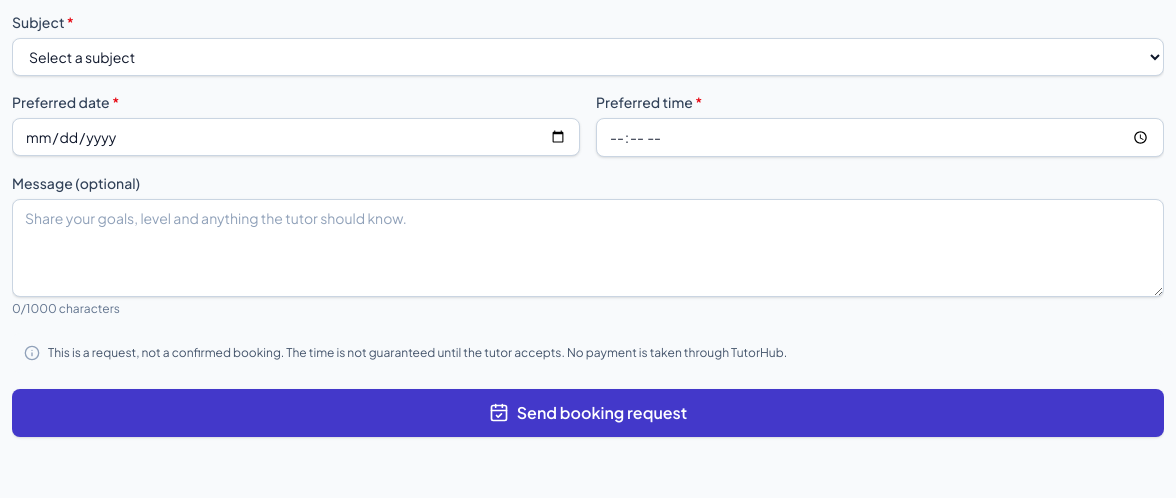
booking request form › validates required fields before sending
Click the button "Send booking request": (588, 413) [12,389,1164,437]
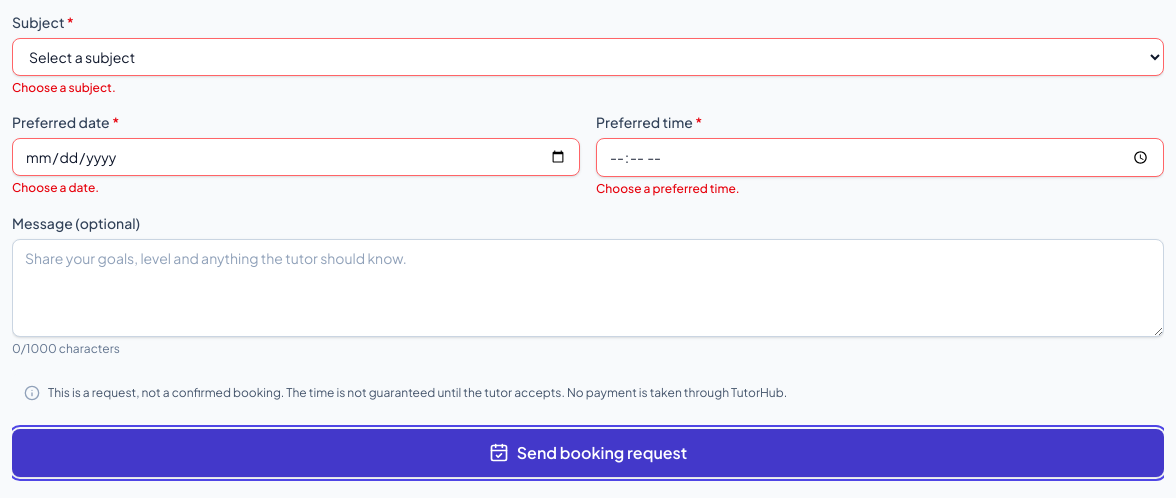
Expected: the text "Choose a subject." is shown, [12,80,116,95]
Expected: the text "Choose a date." is shown, [12,180,99,195]
Expected: the text "Choose a preferred time." is shown, [596,181,740,196]
